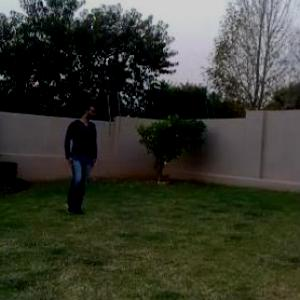follow: (59, 92, 106, 226)
